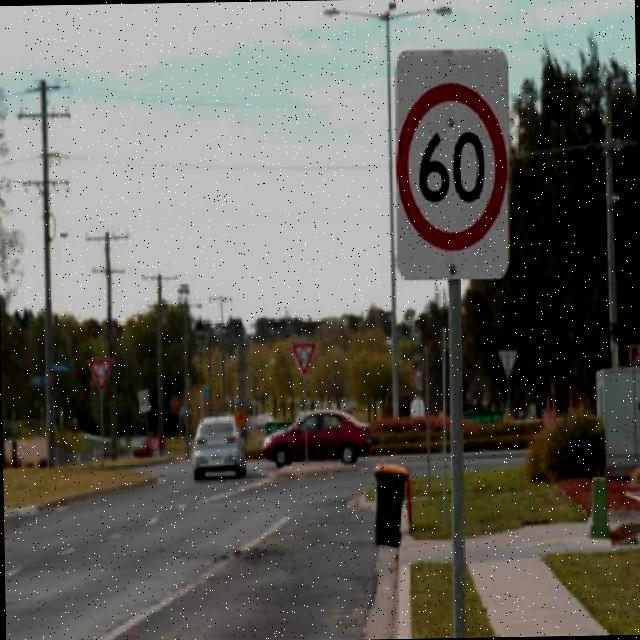Ograniczenie predkosci do 60: (396, 73, 514, 255)
